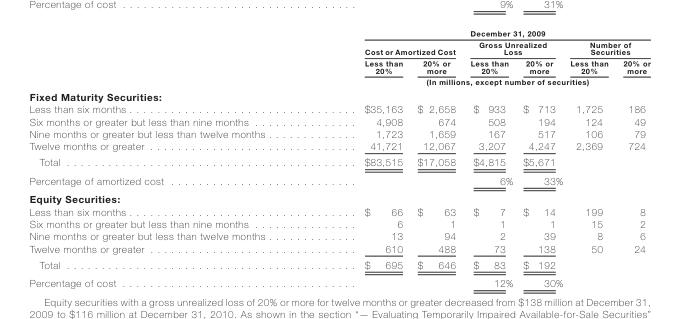table: (28, 28, 649, 288)
table column: (28, 28, 314, 288), (314, 28, 409, 288), (462, 28, 517, 288), (409, 28, 462, 288), (565, 28, 615, 288), (517, 28, 565, 288), (615, 28, 649, 288)
table column header: (28, 28, 649, 87)
table projected row header: (28, 189, 649, 205), (28, 87, 649, 102)
table row: (28, 56, 649, 75), (28, 38, 649, 56), (28, 153, 649, 171), (28, 171, 649, 189), (28, 256, 649, 273), (28, 189, 649, 205), (28, 87, 649, 102), (28, 273, 649, 288), (28, 139, 649, 153), (28, 242, 649, 256), (28, 102, 649, 115), (28, 229, 649, 242), (28, 75, 649, 87), (28, 115, 649, 127), (28, 127, 649, 139), (28, 205, 649, 217), (28, 217, 649, 229), (28, 28, 649, 38)
table spanning cell: (314, 75, 649, 87), (314, 28, 649, 38), (314, 38, 462, 56), (462, 38, 565, 56), (565, 38, 649, 56)
